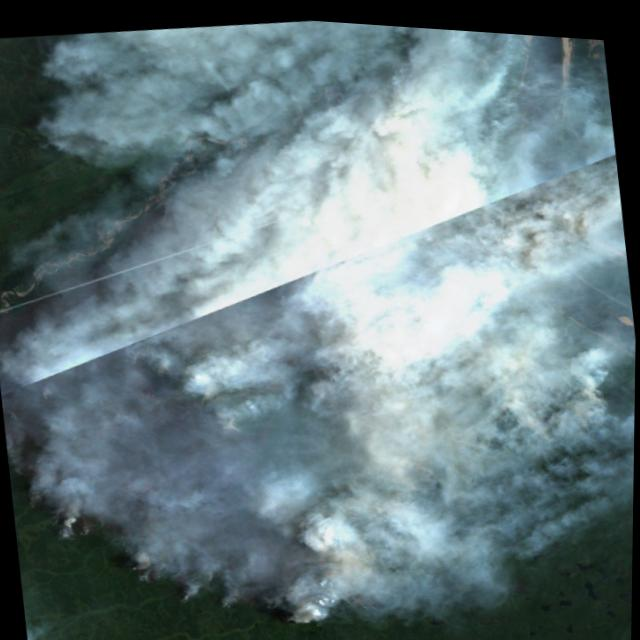fire: (0, 47, 624, 640)
